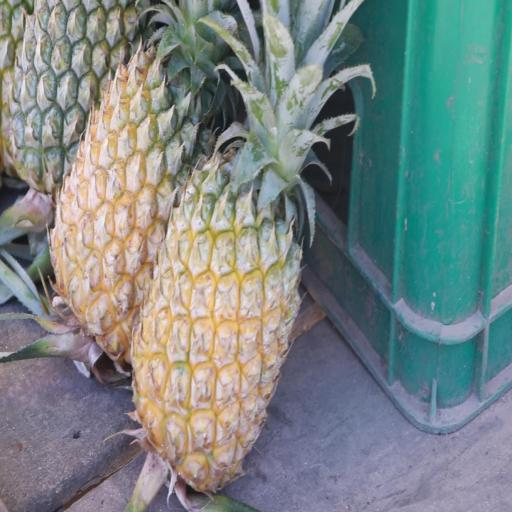Pineapple - v8 v1: (124, 90, 306, 496), (45, 0, 219, 371)
